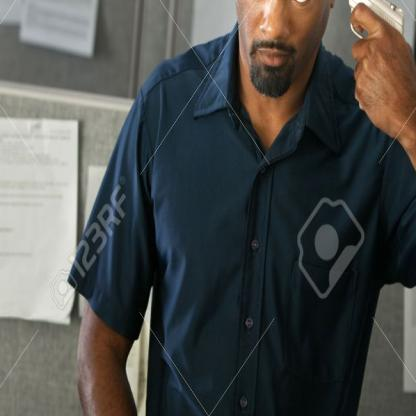gun: (316, 0, 415, 110)
